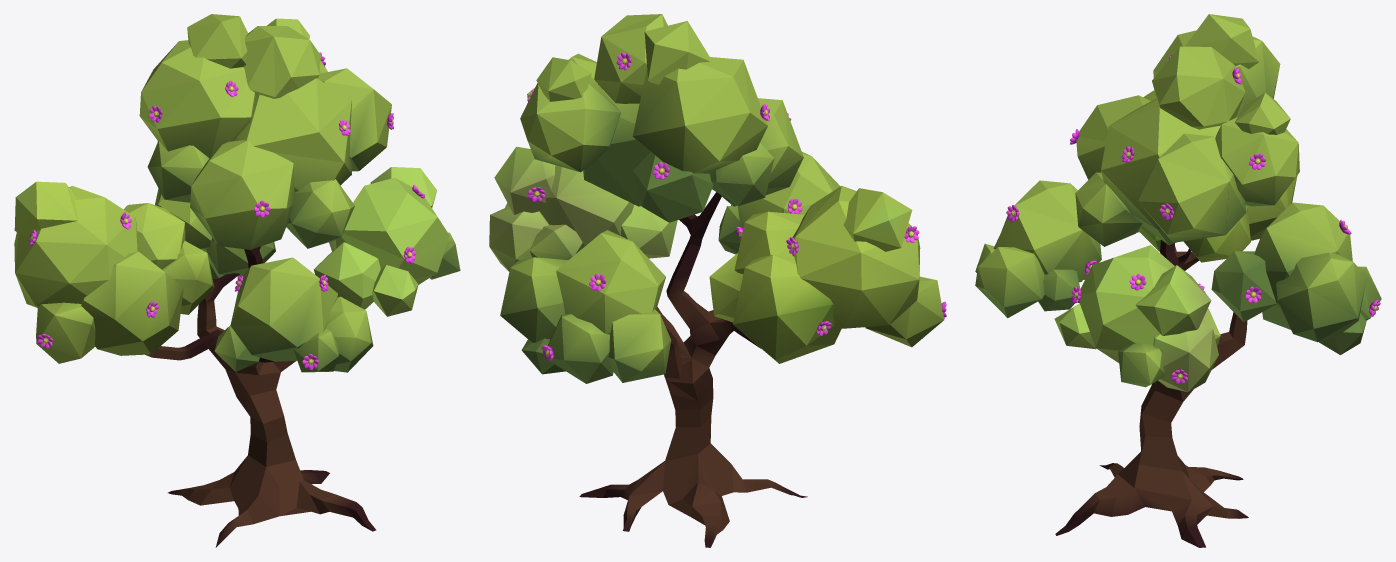
File: tree w pink flowers.fbx
The picture shows the model from 3 angles, left to right: view 1: azimuth 30°, elevation 25°; view 2: azimuth 150°, elevation 25°; view 3: azimuth 270°, elevation 25°; orthographic projection. The views are drawn at different scales.
Visible parts, largest first — view 1: Tree; view 2: Tree; view 3: Tree.
Part boxes in pixels (x1,y1,x2,y2): Tree: [14, 14, 460, 547]; Tree: [489, 14, 946, 547]; Tree: [975, 14, 1381, 547].
Bounding box in the file's own units: 1996 × 2162 × 1645.
